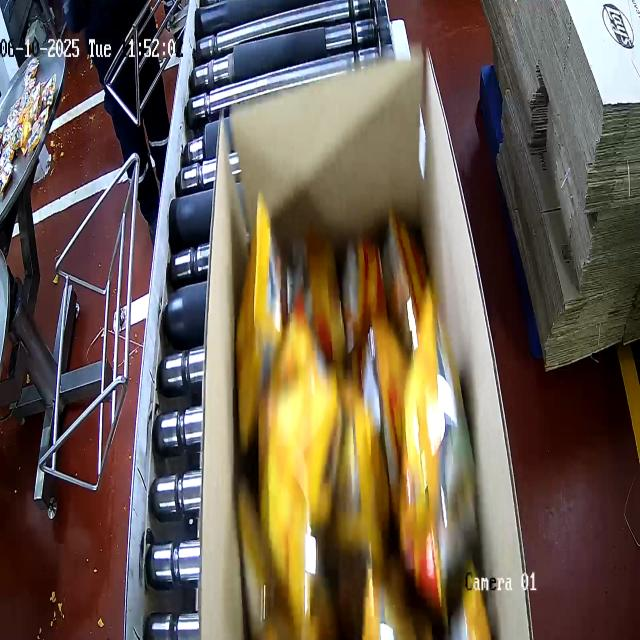FRENCH_CHEESE: (235, 178, 498, 640)
